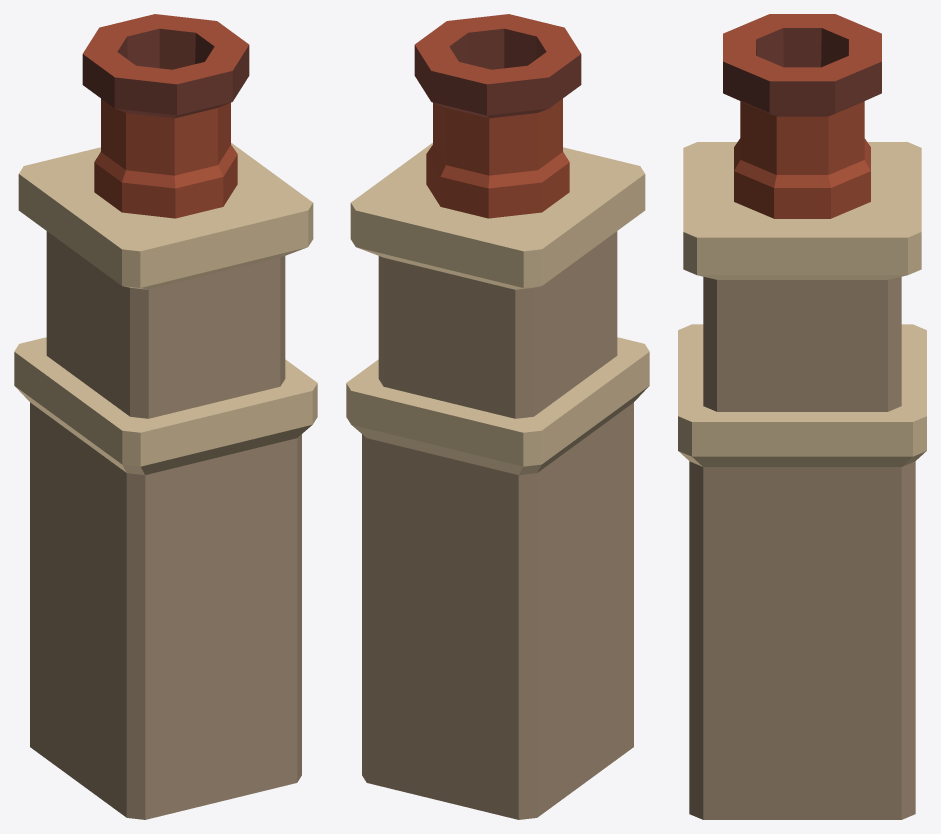
The model's file is octagonal_chimney_pot.glb.
3 views of the same model, side by side, from view 1: azimuth 30°, elevation 25°; view 2: azimuth 150°, elevation 25°; view 3: azimuth 270°, elevation 25° (orthographic). The views are drawn at different scales.
Parts seen in each view (by area): view 1: Octagonal chimney pot; view 2: Octagonal chimney pot; view 3: Octagonal chimney pot.
Boxes of the visible parts, <box> form: Octagonal chimney pot: <box>14,14,317,819</box>; Octagonal chimney pot: <box>346,14,649,819</box>; Octagonal chimney pot: <box>678,14,926,819</box>.
Bounding box in the file's own units: 0.368 × 1.28 × 0.396.
